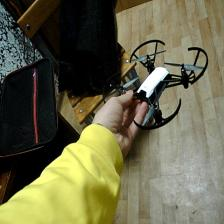drone: (102, 38, 211, 136)
